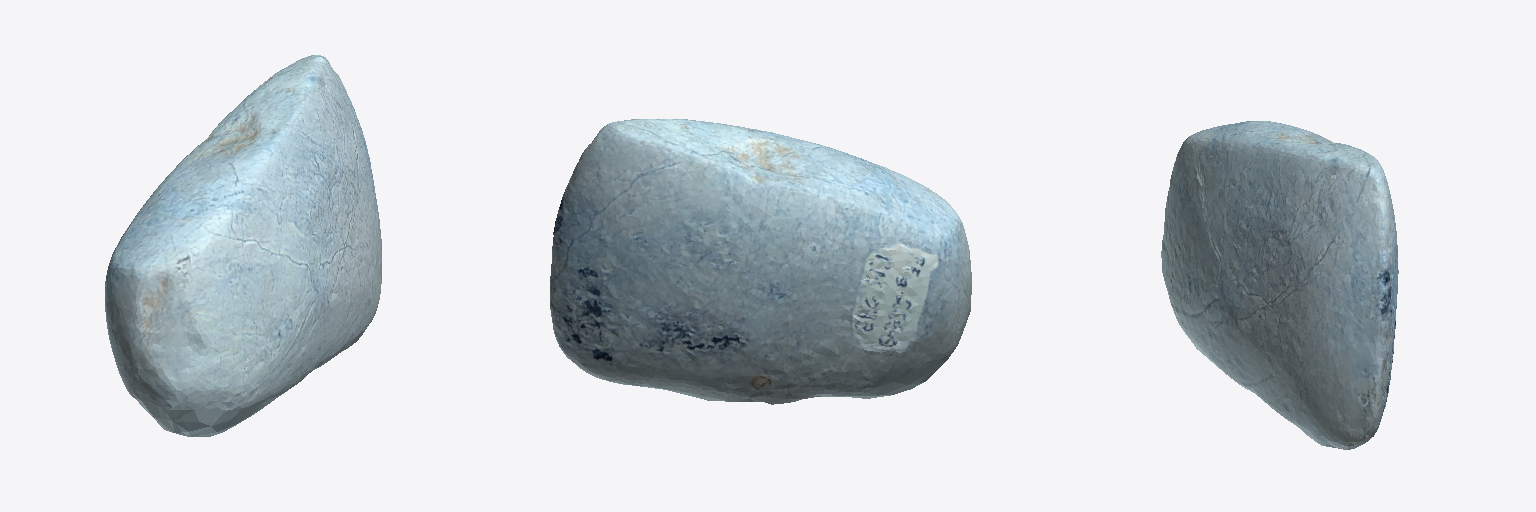
3 views of the same model, side by side, from view 1: azimuth 30°, elevation 25°; view 2: azimuth 150°, elevation 25°; view 3: azimuth 270°, elevation 25° (orthographic).
Visible parts, largest first — view 1: mmGroup0; view 2: mmGroup0; view 3: mmGroup0.
Part boxes in pixels (x1,y1,x2,y2): mmGroup0: (105, 55, 381, 436); mmGroup0: (550, 119, 971, 404); mmGroup0: (1161, 121, 1398, 449).
Size of the model in its own units: 0.2567 by 0.2038 by 0.1555.
Materials: 2 (2 with a texture image).